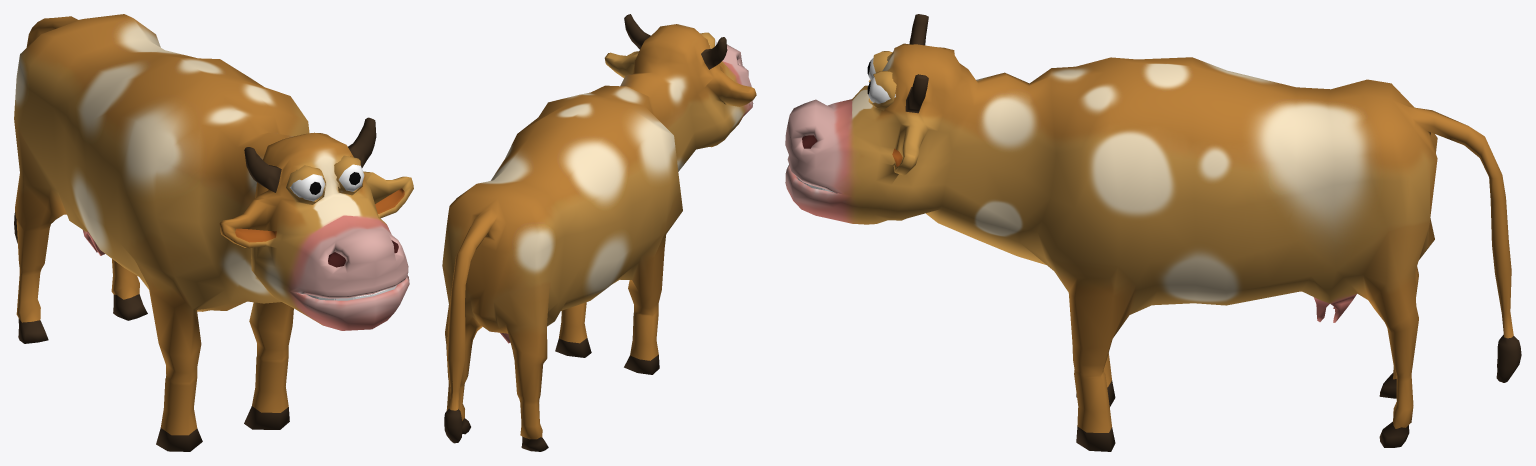
The model's file is caw1.fbx.
3 renders of one model, left to right at view 1: azimuth 30°, elevation 25°; view 2: azimuth 150°, elevation 25°; view 3: azimuth 270°, elevation 25°, orthographic. The views are drawn at different scales.
Parts seen in each view (by area): view 1: Caw; view 2: Caw; view 3: Caw.
Part boxes in pixels (box(x1,y1,x2,y2)): Caw: box(14, 14, 413, 451); Caw: box(442, 14, 756, 451); Caw: box(785, 14, 1521, 451).
Bounding box in the file's own units: 225 × 414 × 734.
Materials: 1 (1 with a texture image).
